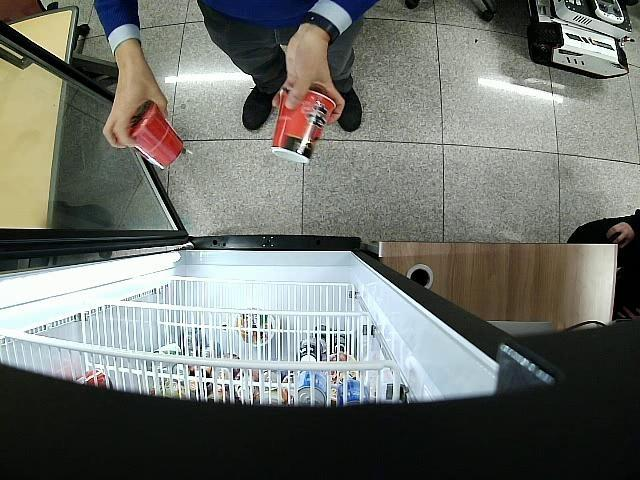02_shinRamen_S: (269, 88, 337, 164), (125, 100, 183, 170)
